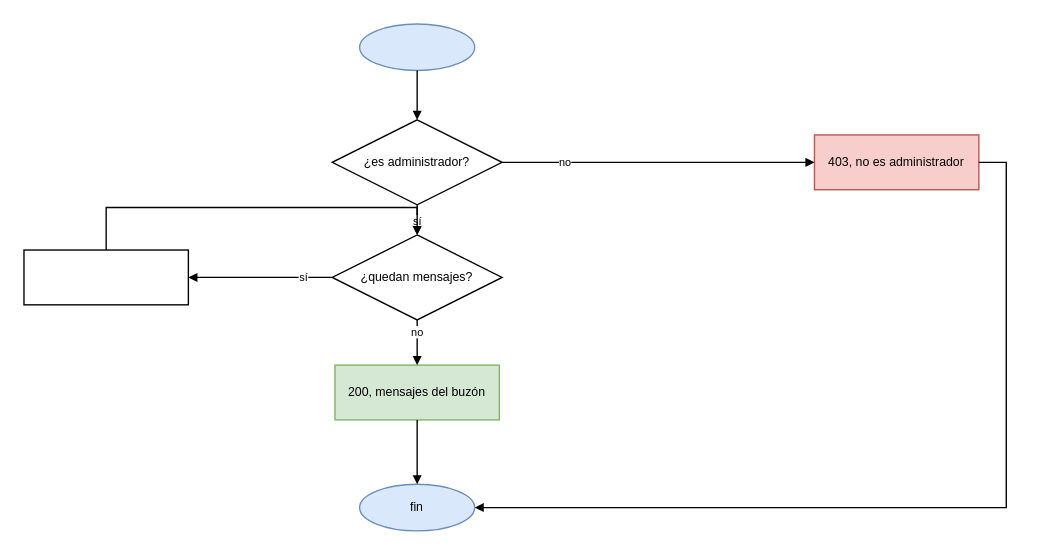
This 1038x555 diagram has some shape labels left out. The shapes that lost their labels are listed below. From the top down, each one's centre as x and y in pixels, then its label:
the point at 416,47: inicio
the point at 105,277: agrega el mensaje a la lista
